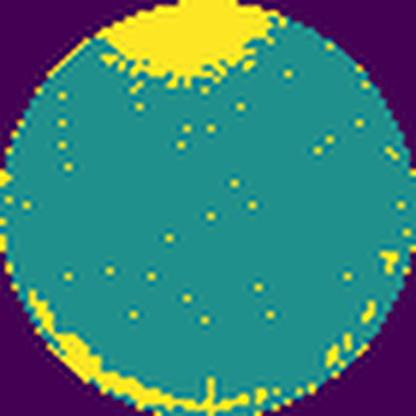Edge-Loc: (97, 0, 294, 91)
